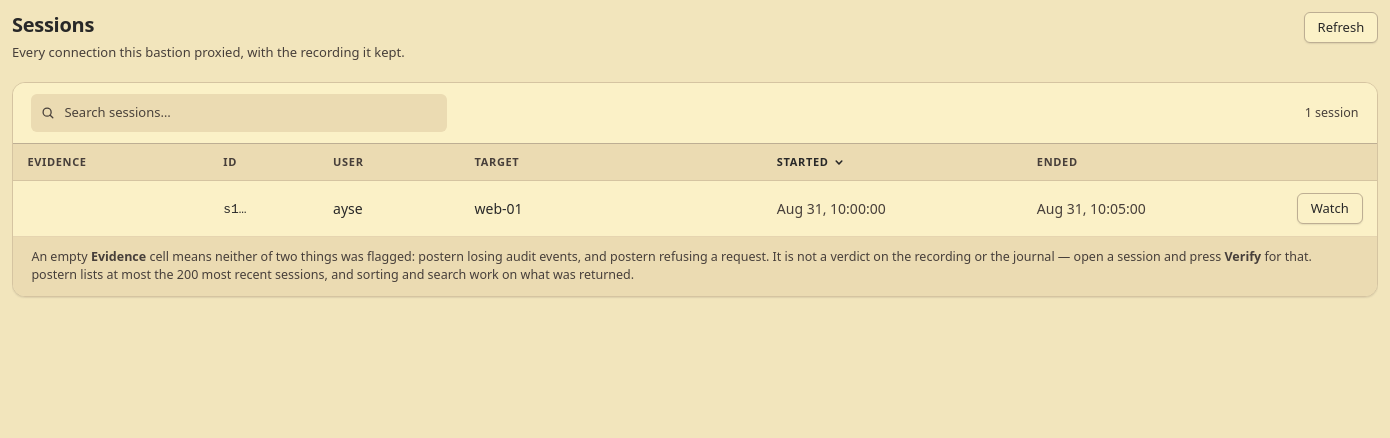
Test: kayıt izleme › yarım kaydı uyarıyla birlikte oynatıyor
Step 1. Click the button "Watch" → (1330, 208), box [1297,193,1363,224]
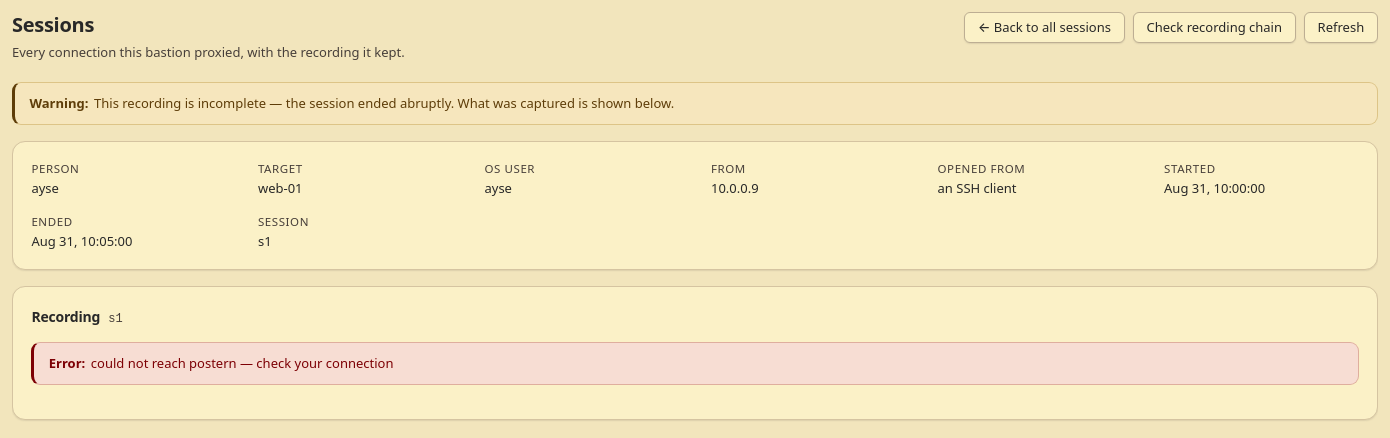
Now the text "incomplete" is shown, box [94,94,674,112]
